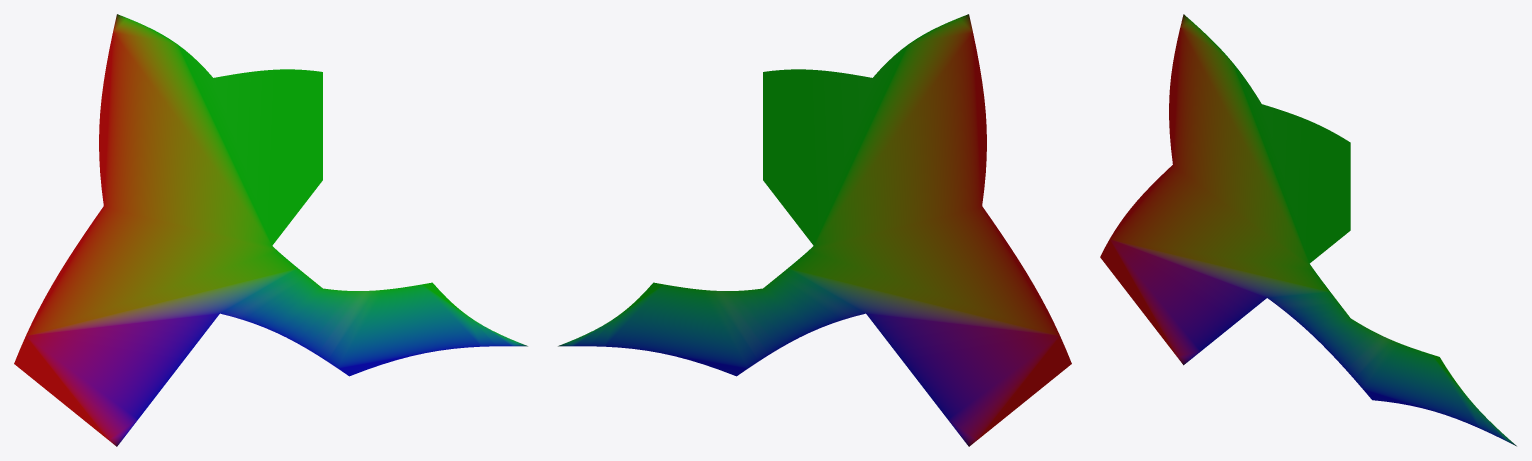
Rendered from flatfish1.glb.
The picture shows the model from 3 angles, left to right: view 1: azimuth 30°, elevation 25°; view 2: azimuth 150°, elevation 25°; view 3: azimuth 330°, elevation 25°; orthographic projection. The views are drawn at different scales.
Parts seen in each view (by area): view 1: Fish; view 2: Fish; view 3: Fish.
Boxes of the visible parts, x1,y1,x2,y2 form: Fish: (14, 14, 527, 446); Fish: (558, 14, 1071, 446); Fish: (1100, 14, 1516, 446).
Bounding box in the file's own units: 1.24 × 0.9999 × 0.
